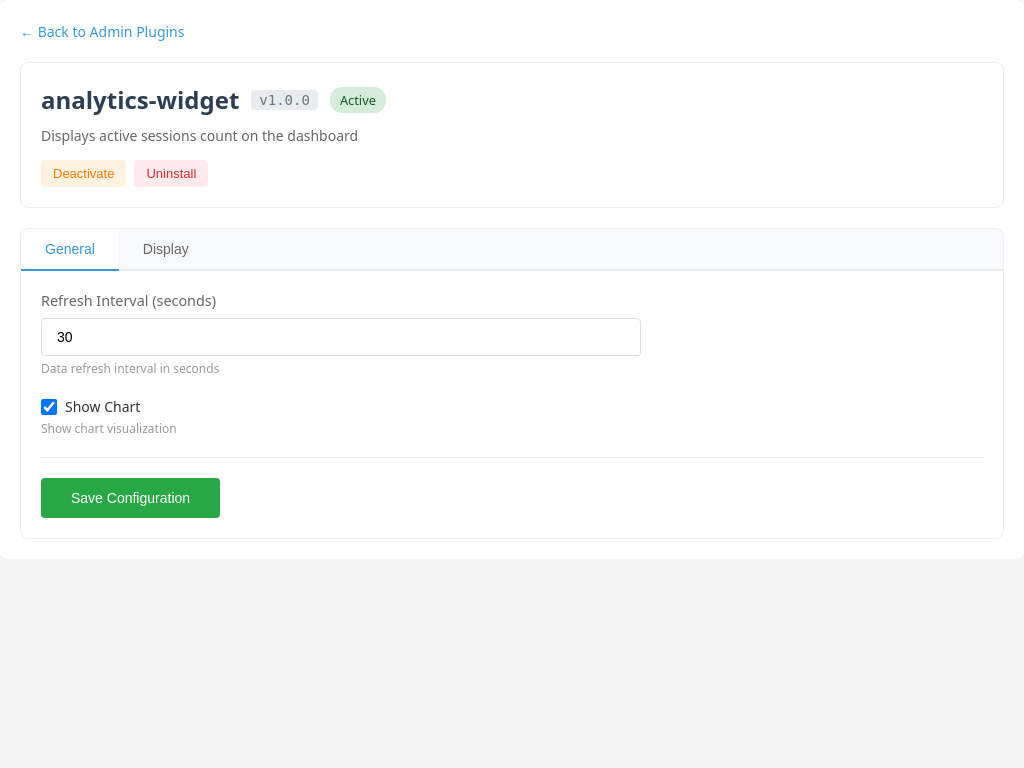
Test case: PluginDetails.vue › saves config on save button click
Click the button with test id "save-config-btn".
click(131, 498)  # box [41,478,220,518]
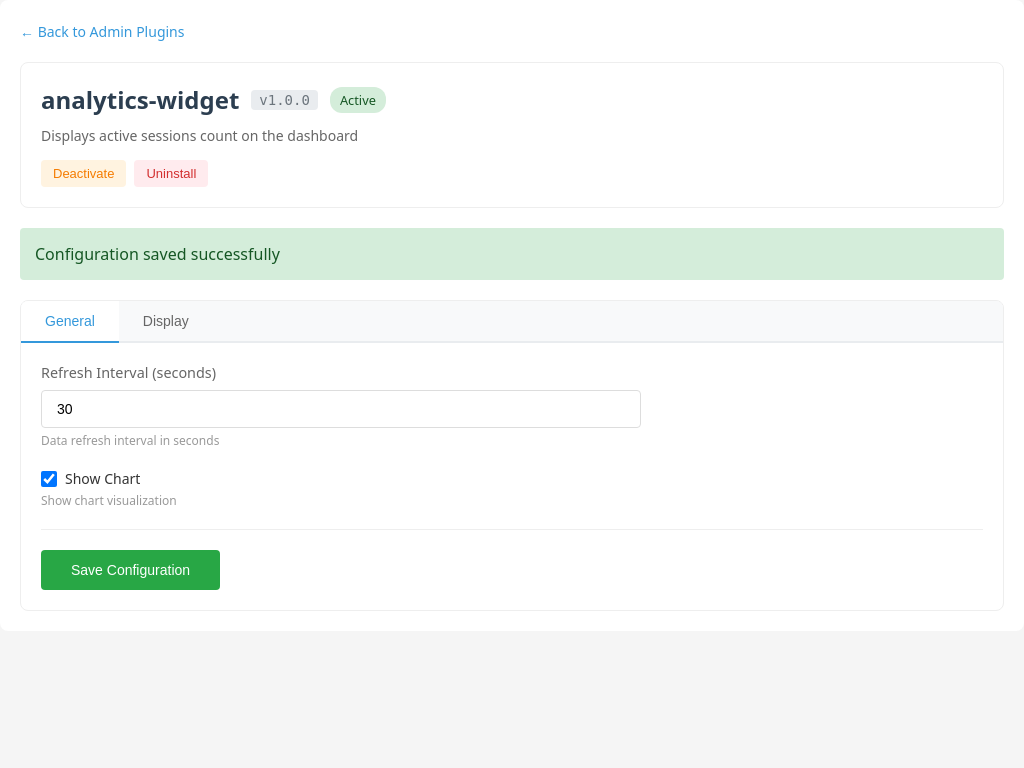
Check: the text "Configuration saved successfully" is shown, box [20,228,1004,280]
